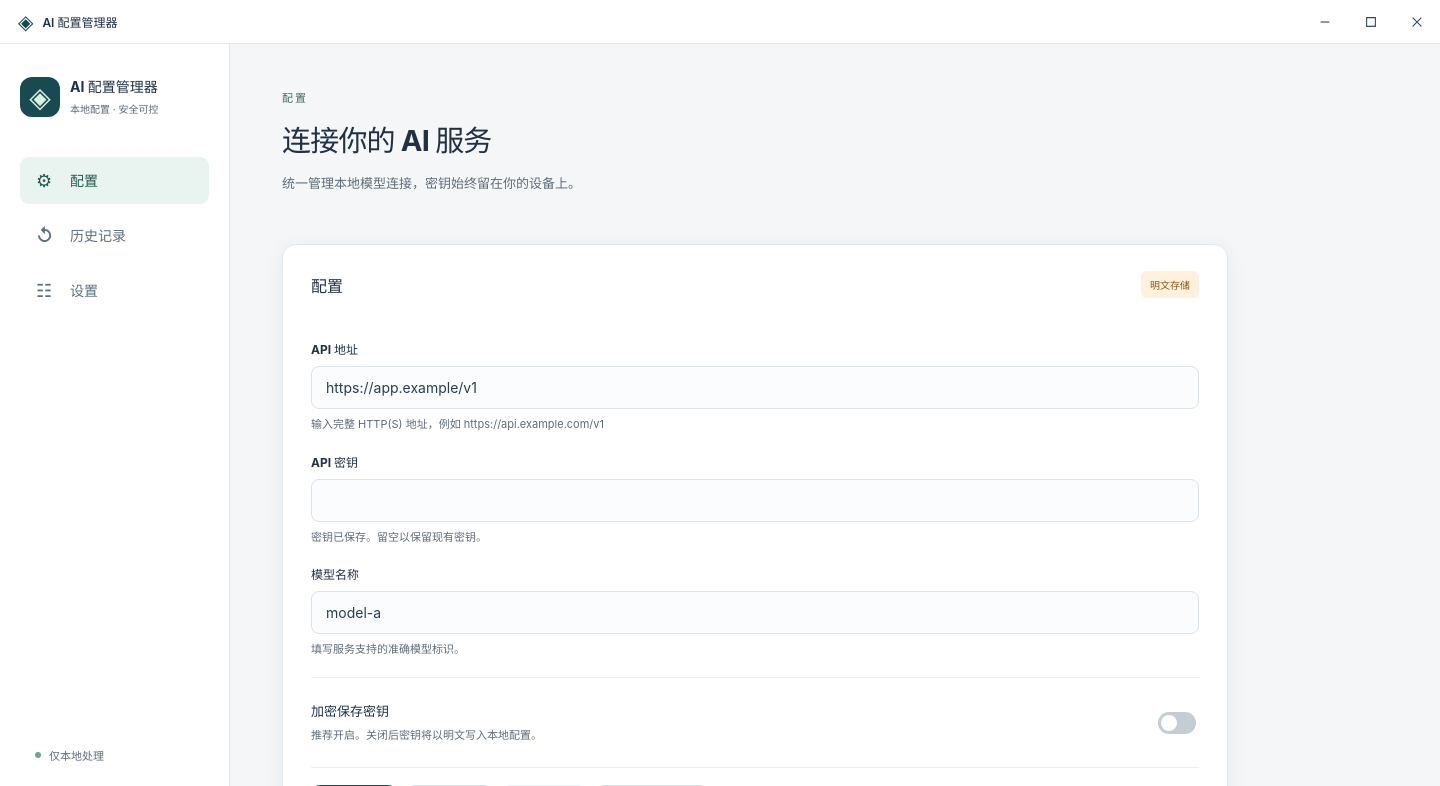
Test: config badge and encryption preference › shows plaintext storage for a saved plaintext config and edits back to encrypted
The width and height of the screenshot is (1440, 786).
expect the text with class "badge" reads "明文存储": met, box [1150,279,1190,291]
# Enabling encryption is the safe direction: no confirmation needed.
Click the switch labelled "加密保存密钥 推荐开启。关闭后密钥将以明文写入本地配置。" at [1177, 723], box [1158,712,1196,734]
(page scrolled)
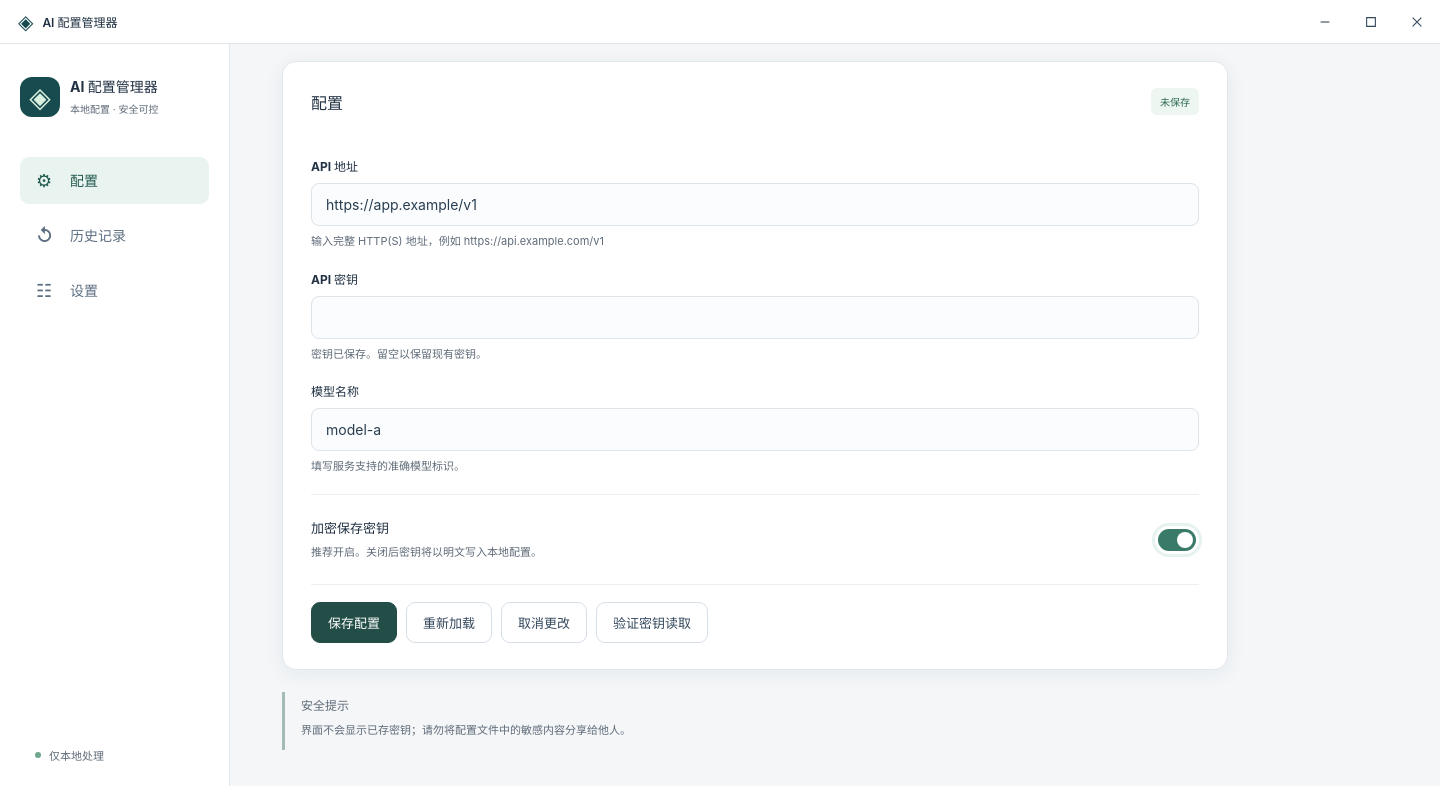
expect the switch labelled "加密保存密钥 推荐开启。关闭后密钥将以明文写入本地配置。" is checked: met, box [1158,529,1196,551]
expect the text with class "badge" reads "未保存": met, box [1160,96,1190,108]
Click the button "保存配置" at [354, 623], box [311,602,397,644]
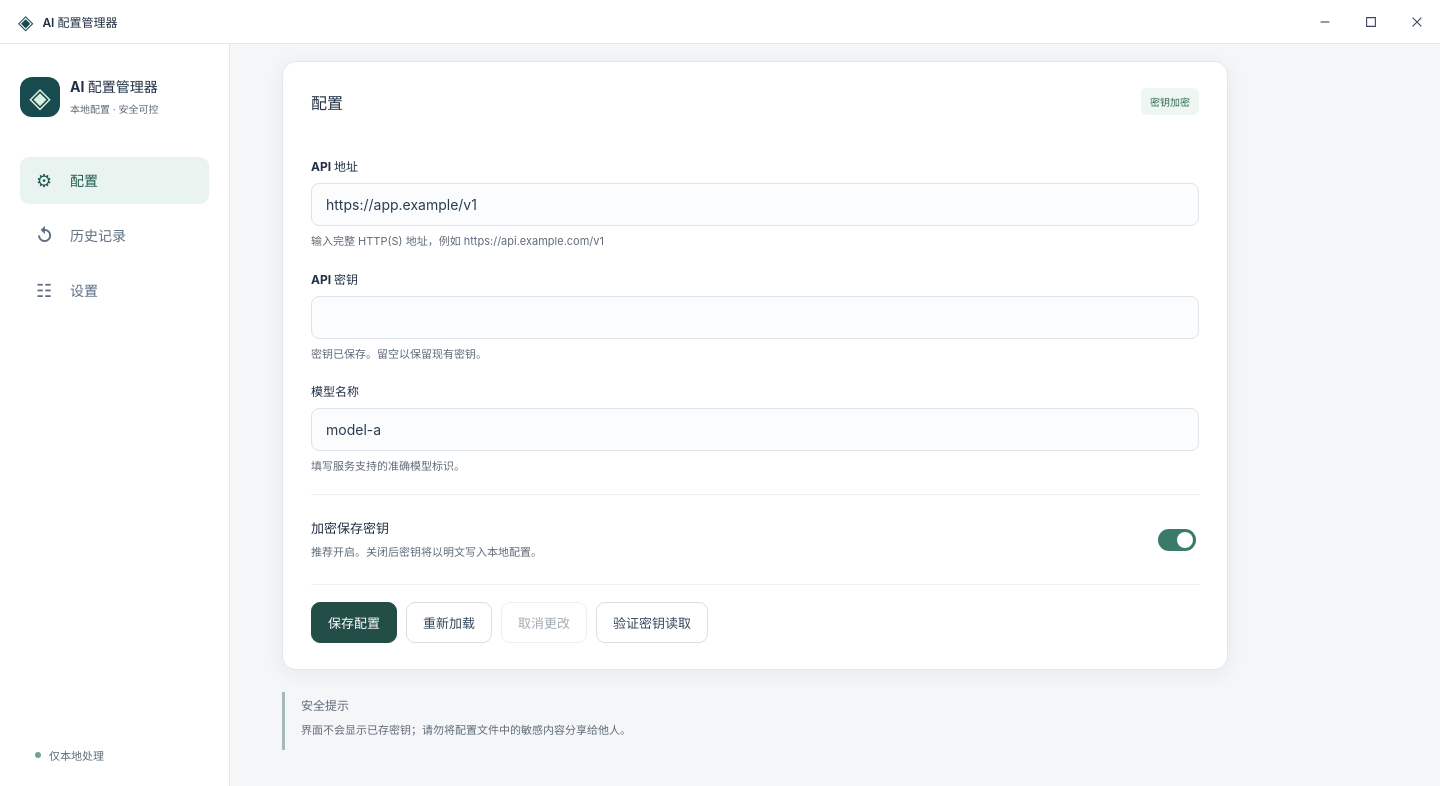
expect the text with class "badge" reads "密钥加密": met, box [1150,96,1190,108]
